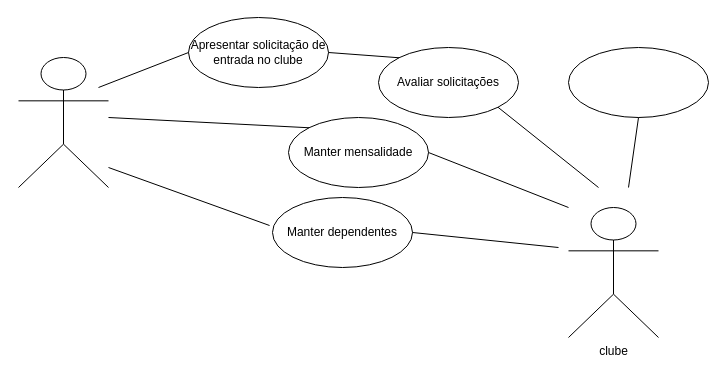
Some shapes in this 726 by 376 pixel diagram are drawn without their labels. Here are the shapes that lost their labels. From the top down, the box of each, then its label:
(568, 46, 708, 118): Manter membros
(18, 56, 108, 188): membro do clube
